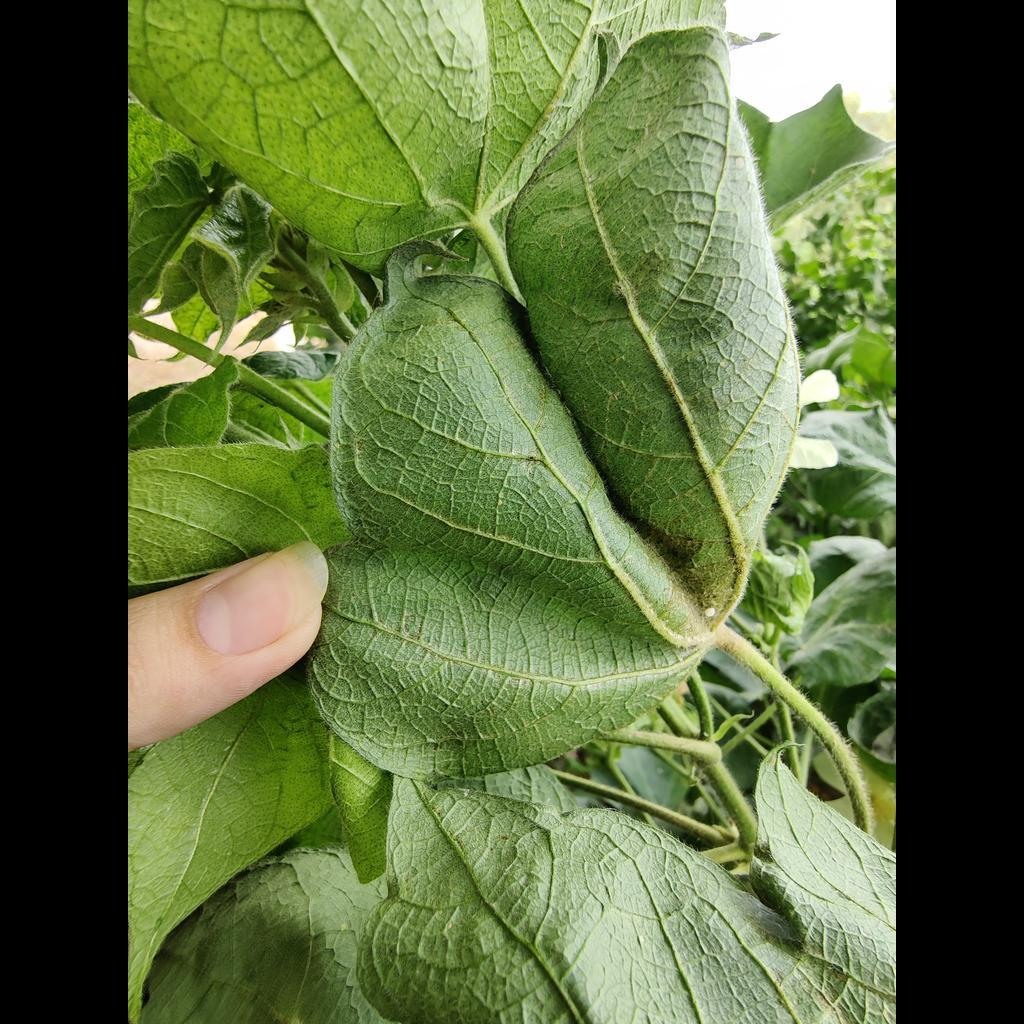nymph: (705, 607, 715, 617), (206, 185, 214, 194), (703, 731, 709, 738), (425, 266, 433, 271)
